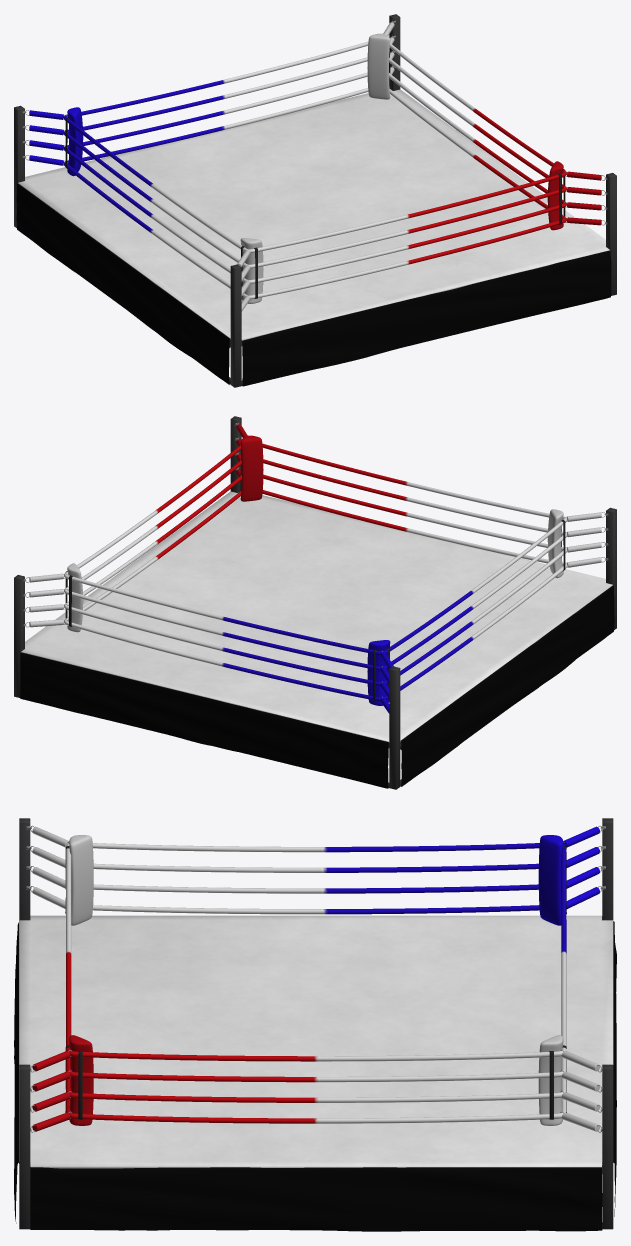
File: boxing_ring.glb
The picture shows the model from 3 angles, top to bottom: view 1: azimuth 30°, elevation 25°; view 2: azimuth 150°, elevation 25°; view 3: azimuth 270°, elevation 25°; orthographic projection. The views are drawn at different scales.
Parts seen in each view (by area): view 1: Boxing Ring; view 2: Boxing Ring; view 3: Boxing Ring.
Part boxes in pixels (x1,y1,x2,y2): Boxing Ring: (14, 14, 616, 387); Boxing Ring: (14, 416, 616, 789); Boxing Ring: (14, 818, 616, 1231).
Size of the model in its own units: 7.93 by 2.4 by 7.92.
1 material, 1 textured.
